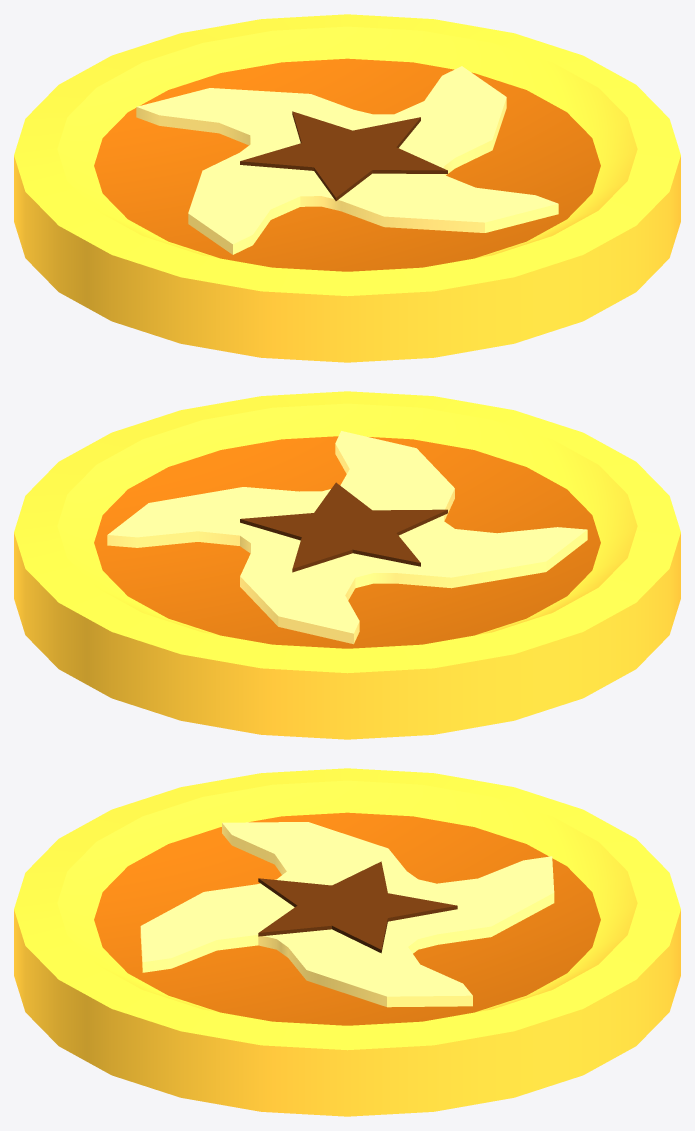
The model's file is Coin.fbx.
3 renders of one model, top to bottom at view 1: azimuth 30°, elevation 25°; view 2: azimuth 150°, elevation 25°; view 3: azimuth 270°, elevation 25°, orthographic.
Visible parts, largest first — view 1: Coin; view 2: Coin; view 3: Coin.
Part boxes in pixels (x1,y1,x2,y2): Coin: [14, 14, 680, 362]; Coin: [14, 391, 680, 739]; Coin: [14, 768, 680, 1116].
Size of the model in its own units: 200 by 26 by 200.
